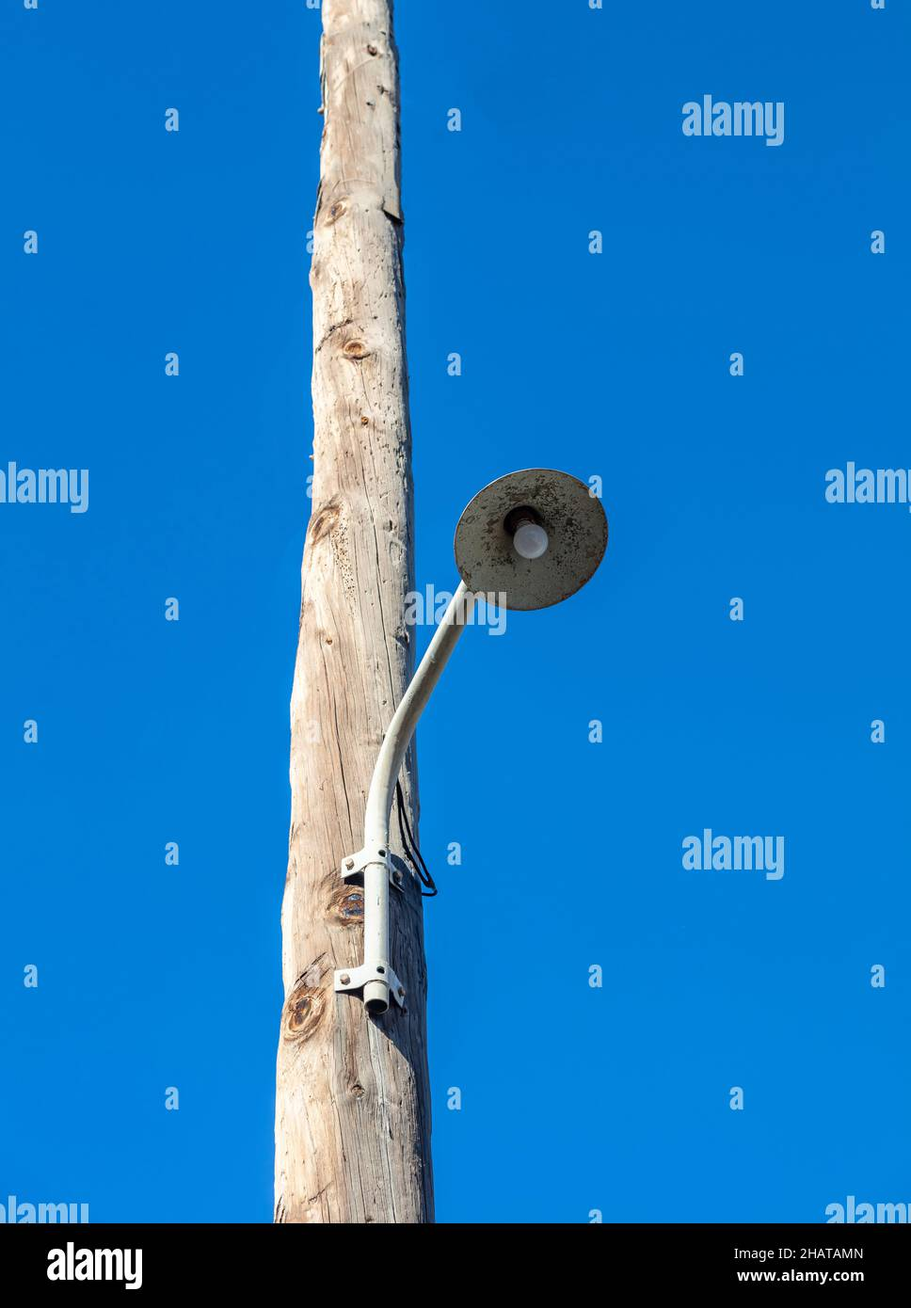light_pole: (262, 2, 457, 1237)
